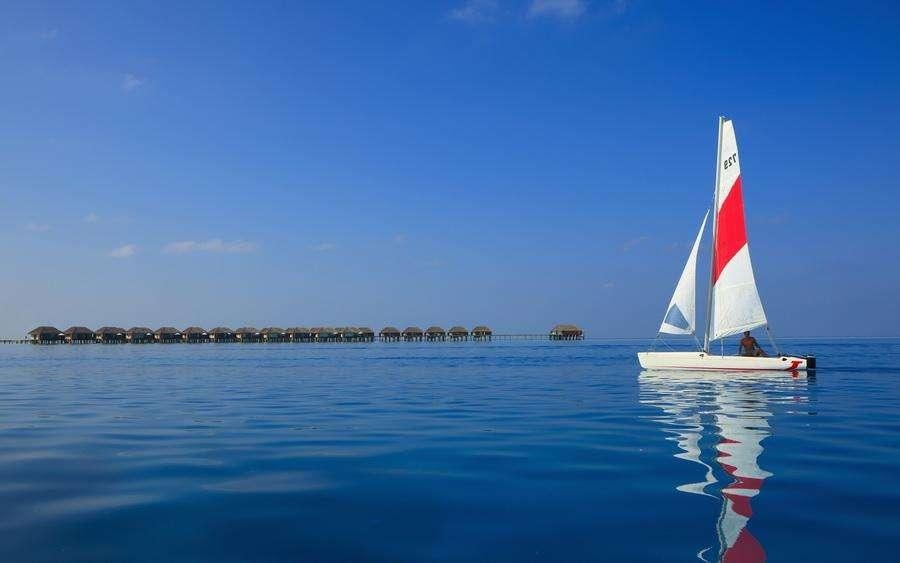fanchuan: (630, 115, 828, 376)
